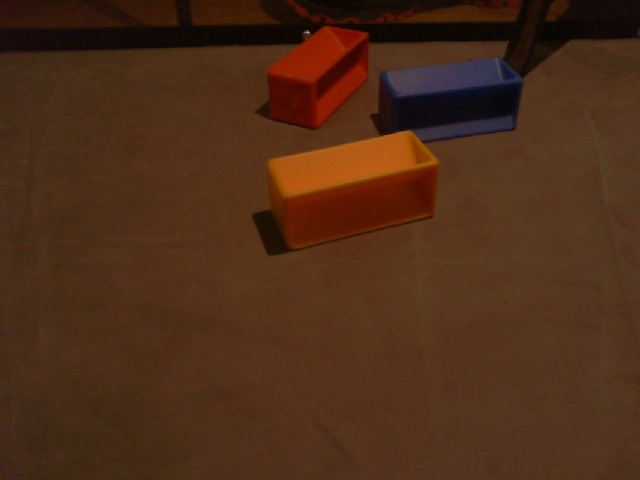BlueSample: (378, 54, 525, 146)
RedSample: (263, 24, 368, 131)
YellowSample: (263, 129, 439, 250)
